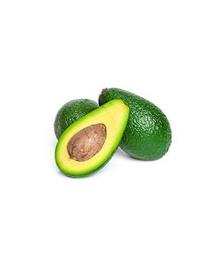avocado: (54, 98, 131, 179), (98, 88, 173, 162)
